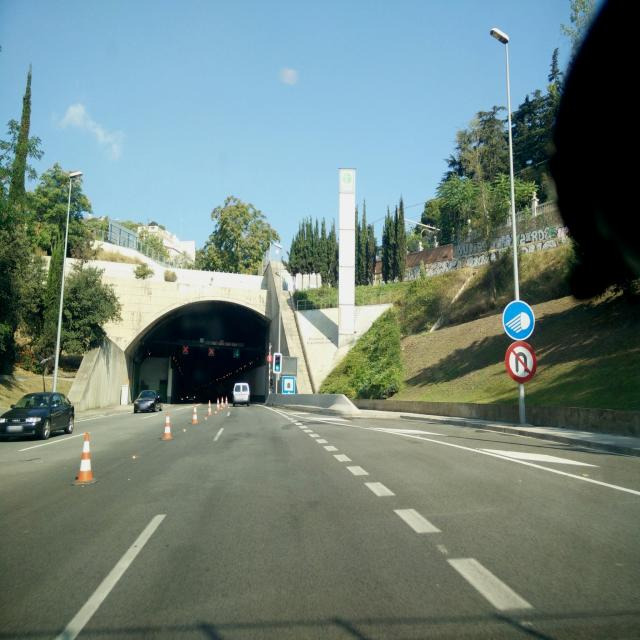car: (0, 390, 75, 441), (133, 389, 162, 414), (232, 382, 250, 406)
